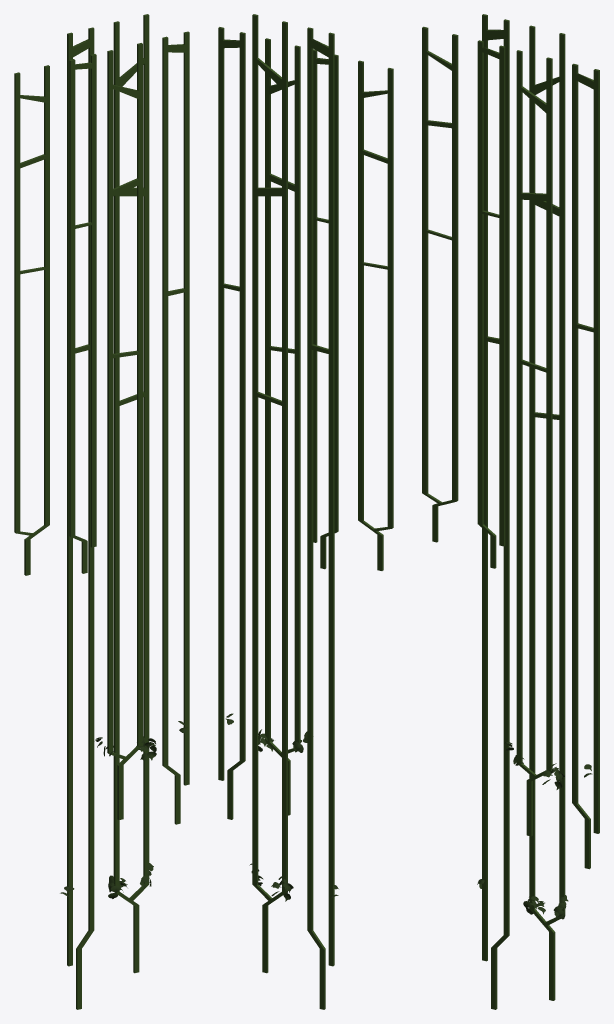
File: vinesWithLeaves.fbx
3 renders of one model, left to right at view 1: azimuth 30°, elevation 25°; view 2: azimuth 150°, elevation 25°; view 3: azimuth 330°, elevation 25°, orthographic.
Parts seen in each view (by area): view 1: vines; view 2: vines; view 3: vines.
Part boxes in pixels (bbox=[...]): vines: bbox=[14, 14, 189, 1009]; vines: bbox=[218, 14, 393, 1009]; vines: bbox=[422, 14, 599, 1009].
Bounding box in the file's own units: 37.66 × 202 × 5.51.
